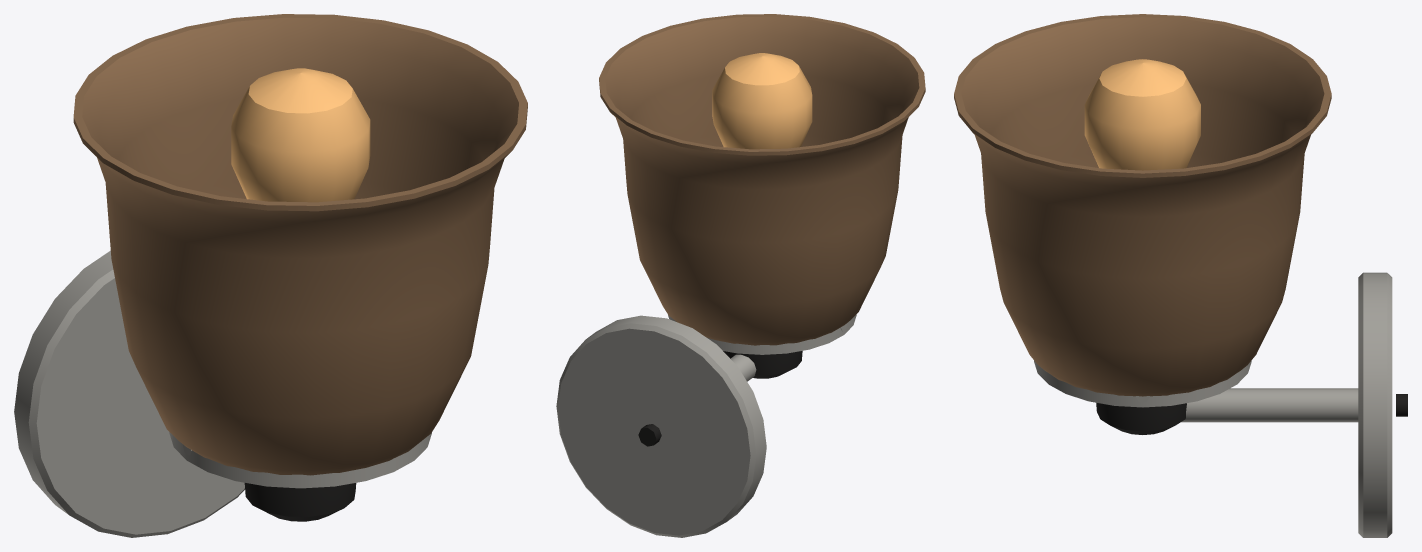
The model's file is wall-sconce-cc1c23a876be.glb.
The picture shows the model from 3 angles, left to right: view 1: azimuth 30°, elevation 25°; view 2: azimuth 150°, elevation 25°; view 3: azimuth 270°, elevation 25°; orthographic projection. The views are drawn at different scales.
Visible parts, largest first — view 1: shade, brushed, emissive-warm, enamel-black; view 2: shade, brushed, emissive-warm, enamel-black; view 3: shade, brushed, emissive-warm, enamel-black.
Part boxes in pixels (box(x1,y1,x2,y2)): shade: box(73, 14, 527, 475); brushed: box(14, 251, 431, 537); emissive-warm: box(231, 68, 370, 202); enamel-black: box(244, 483, 356, 521); shade: box(599, 14, 925, 345); brushed: box(556, 314, 856, 537); emissive-warm: box(712, 53, 812, 149); enamel-black: box(723, 351, 802, 378); shade: box(954, 14, 1331, 396); brushed: box(1034, 272, 1392, 537); emissive-warm: box(1084, 59, 1200, 170); enamel-black: box(1096, 402, 1186, 434).
Bounding box in the file's own units: 0.156 × 0.211 × 0.1875.
